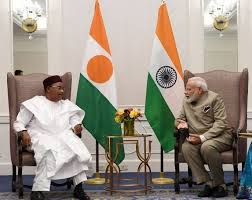Good: (15, 72, 233, 200)
